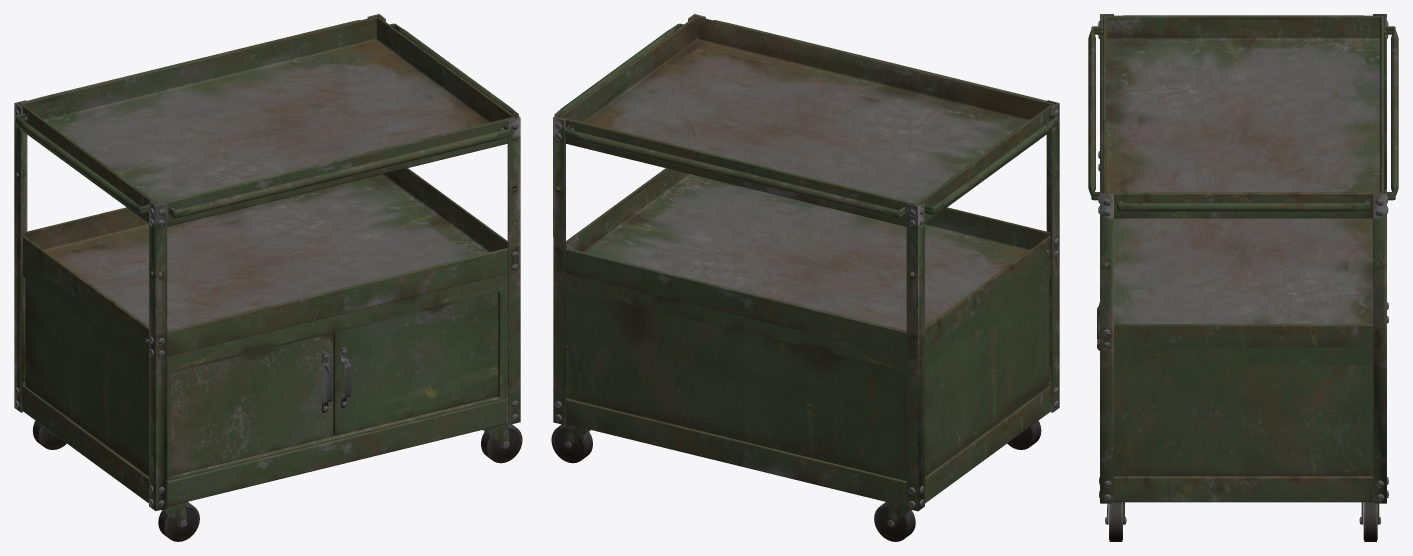
Rendered from industrial_storage_cart.glb.
The picture shows the model from 3 angles, left to right: view 1: azimuth 30°, elevation 25°; view 2: azimuth 150°, elevation 25°; view 3: azimuth 270°, elevation 25°; orthographic projection.
Visible parts, largest first — view 1: industrial_storage_cart; view 2: industrial_storage_cart; view 3: industrial_storage_cart.
Boxes of the visible parts, <box> form: industrial_storage_cart: <box>14,14,522,541</box>; industrial_storage_cart: <box>551,14,1059,541</box>; industrial_storage_cart: <box>1088,14,1398,541</box>.
Bounding box in the file's own units: 1.6 × 1.38 × 1.1.
1 material, 1 textured.
